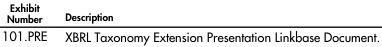table: (1, 0, 379, 44)
table column: (55, 0, 379, 44), (1, 0, 55, 44)
table column header: (1, 0, 379, 25)
table row: (1, 0, 379, 25), (1, 25, 379, 44)
